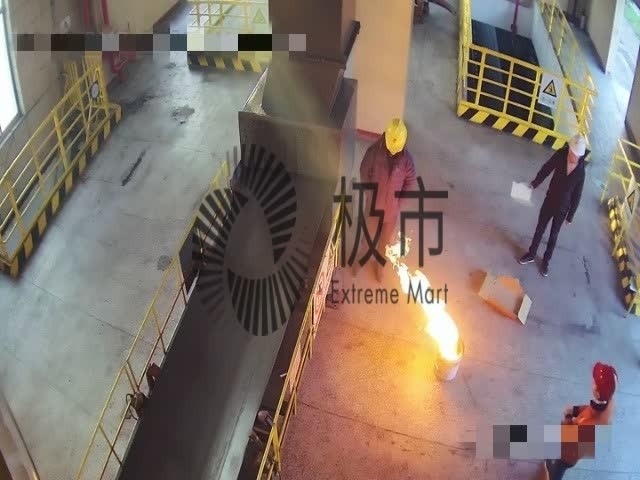fire: (380, 235, 460, 362)
